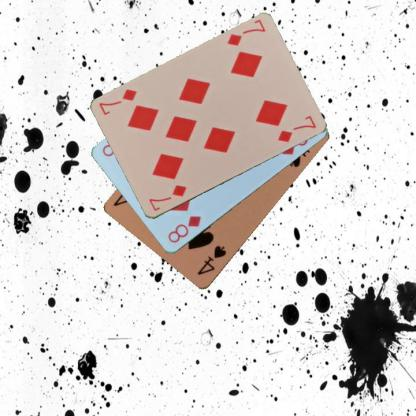4s: (194, 242, 228, 276)
7d: (224, 17, 267, 48), (146, 182, 188, 213)
8d: (164, 213, 202, 245)
